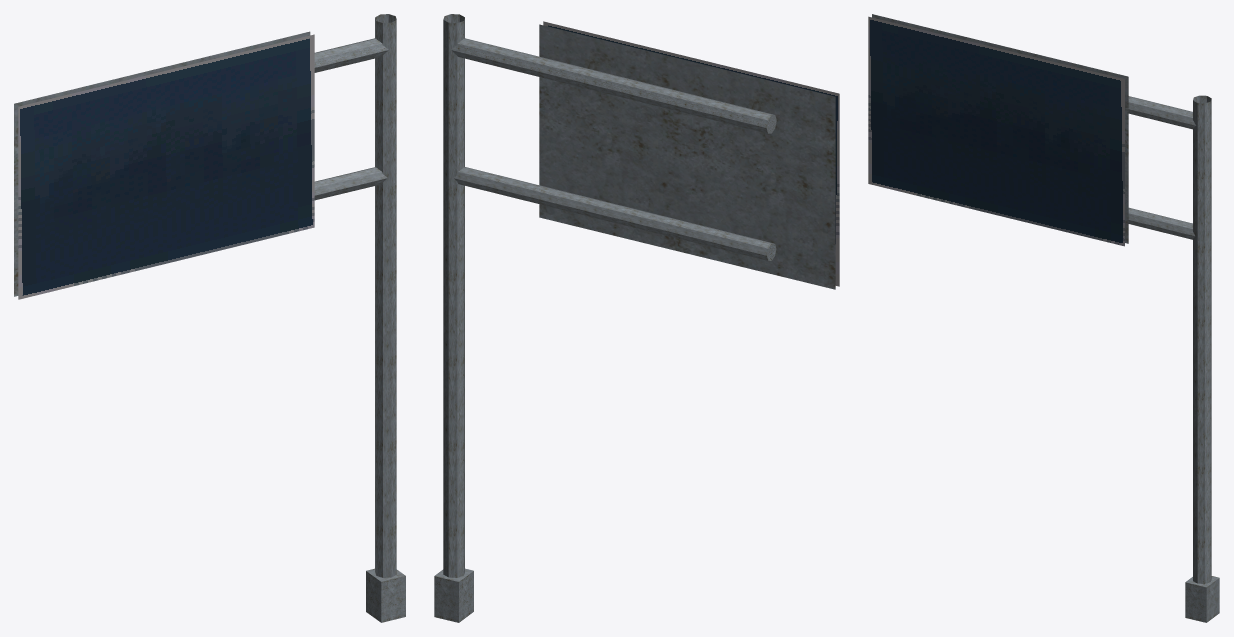
File: vgs_roadsign03.obj
3 views of the same model, side by side, from view 1: azimuth 30°, elevation 25°; view 2: azimuth 150°, elevation 25°; view 3: azimuth 330°, elevation 25° (orthographic). The views are drawn at different scales.
Parts seen in each view (by area): view 1: vgs_roadsign03; view 2: vgs_roadsign03; view 3: vgs_roadsign03.
Part boxes in pixels (left/top/right/bottom): vgs_roadsign03: left=14, top=14, right=405, bottom=622; vgs_roadsign03: left=434, top=14, right=839, bottom=622; vgs_roadsign03: left=868, top=14, right=1219, bottom=622.
Bounding box in the file's own units: 5.66 × 8.42 × 0.421.
Materials: 2 (2 with a texture image).
